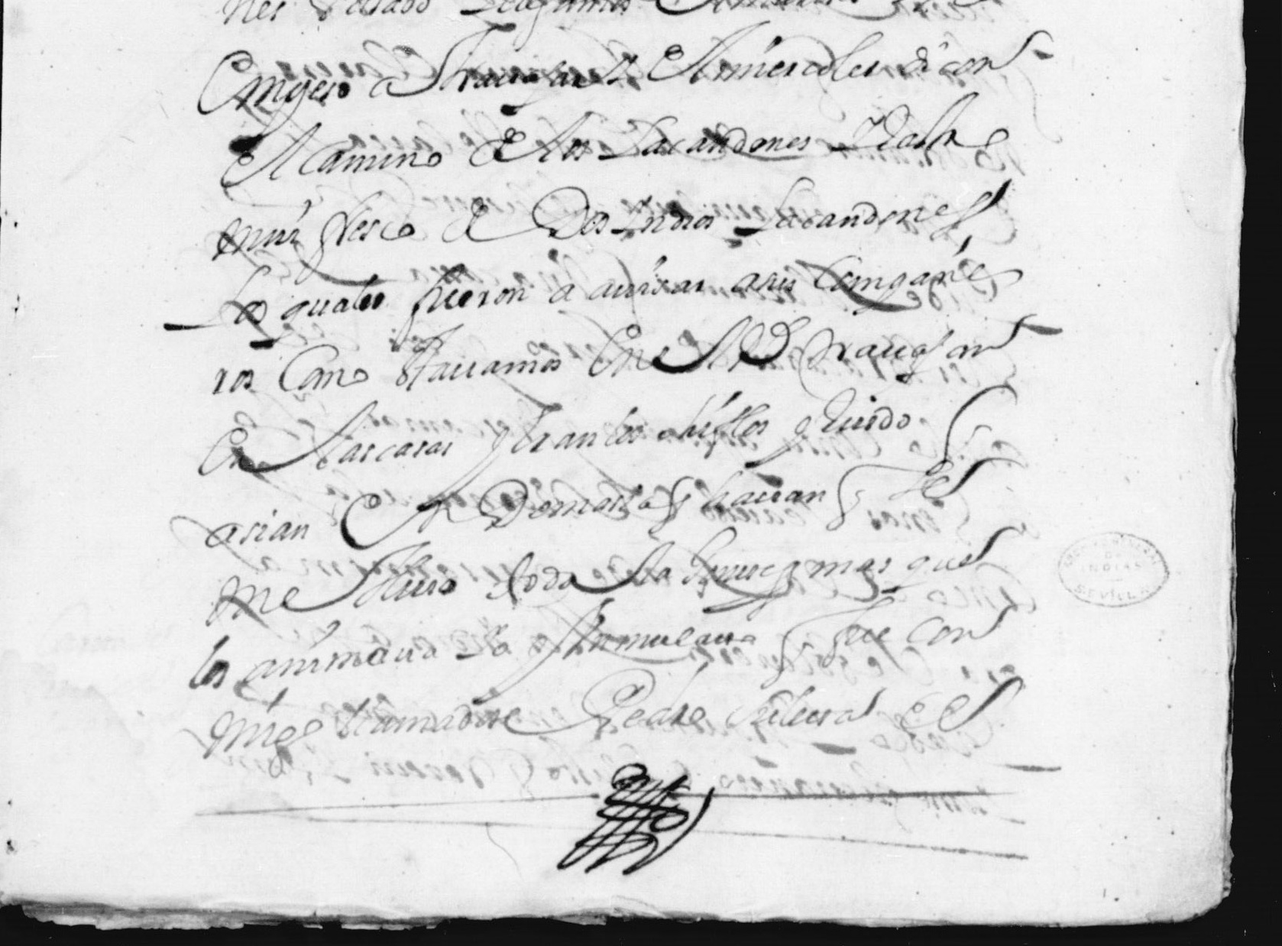lacandon: (733, 177, 1012, 240)
